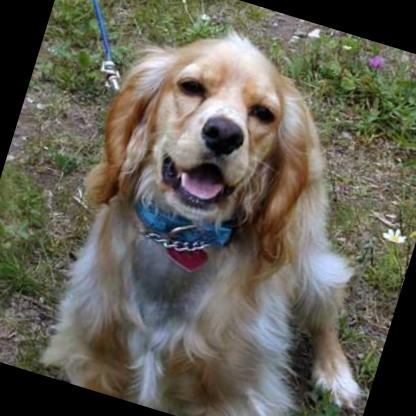cocker_spaniel: (24, 0, 416, 416)
